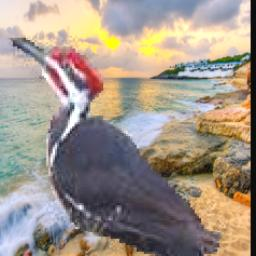Woodpecker: (10, 36, 230, 256)
